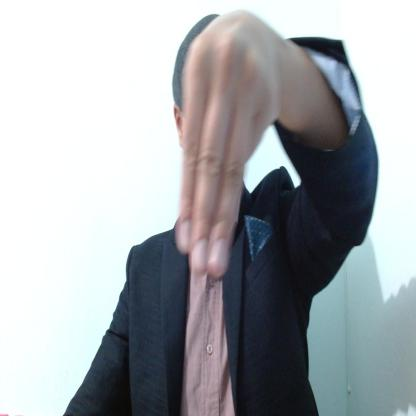M: (179, 13, 278, 276)
